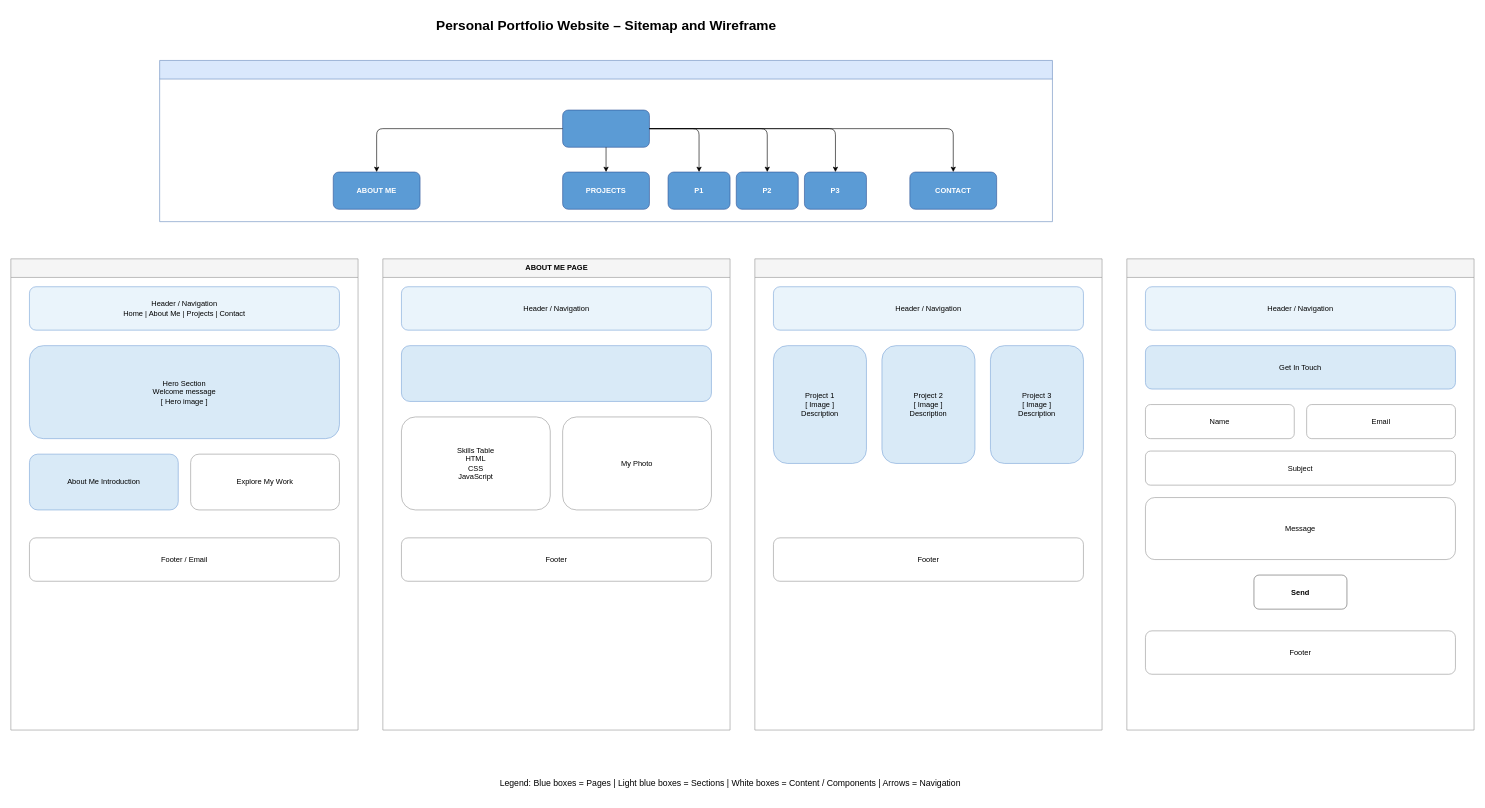
Image size: 1485x808. Some labels were removed from this diagram. The shapes that lost their labels are listed below. From the top down, each one's box as (x1, y1, x2, y2) in pixels, then its label:
(562, 109, 649, 147): HOME
(159, 60, 1052, 222): Sitemap
(401, 345, 711, 401): My Background
(10, 258, 358, 730): HOME PAGE
(754, 258, 1102, 730): PROJECTS PAGE
(1126, 258, 1474, 730): CONTACT PAGE
